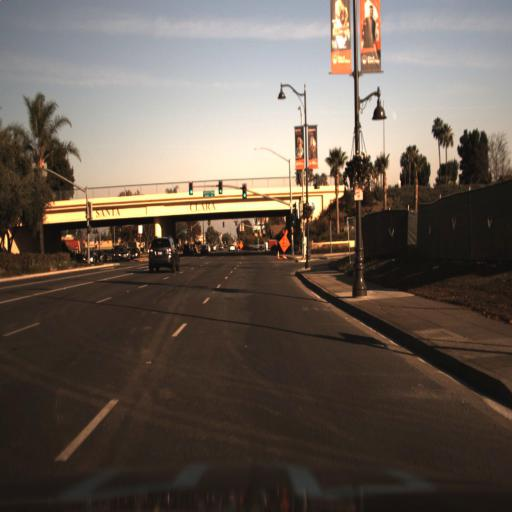car: (146, 235, 180, 280), (115, 239, 130, 265)
trafficLight-Green: (241, 178, 251, 202), (215, 177, 225, 199), (290, 207, 297, 233), (240, 180, 248, 200), (186, 182, 194, 201), (217, 179, 225, 198), (187, 177, 194, 196)
